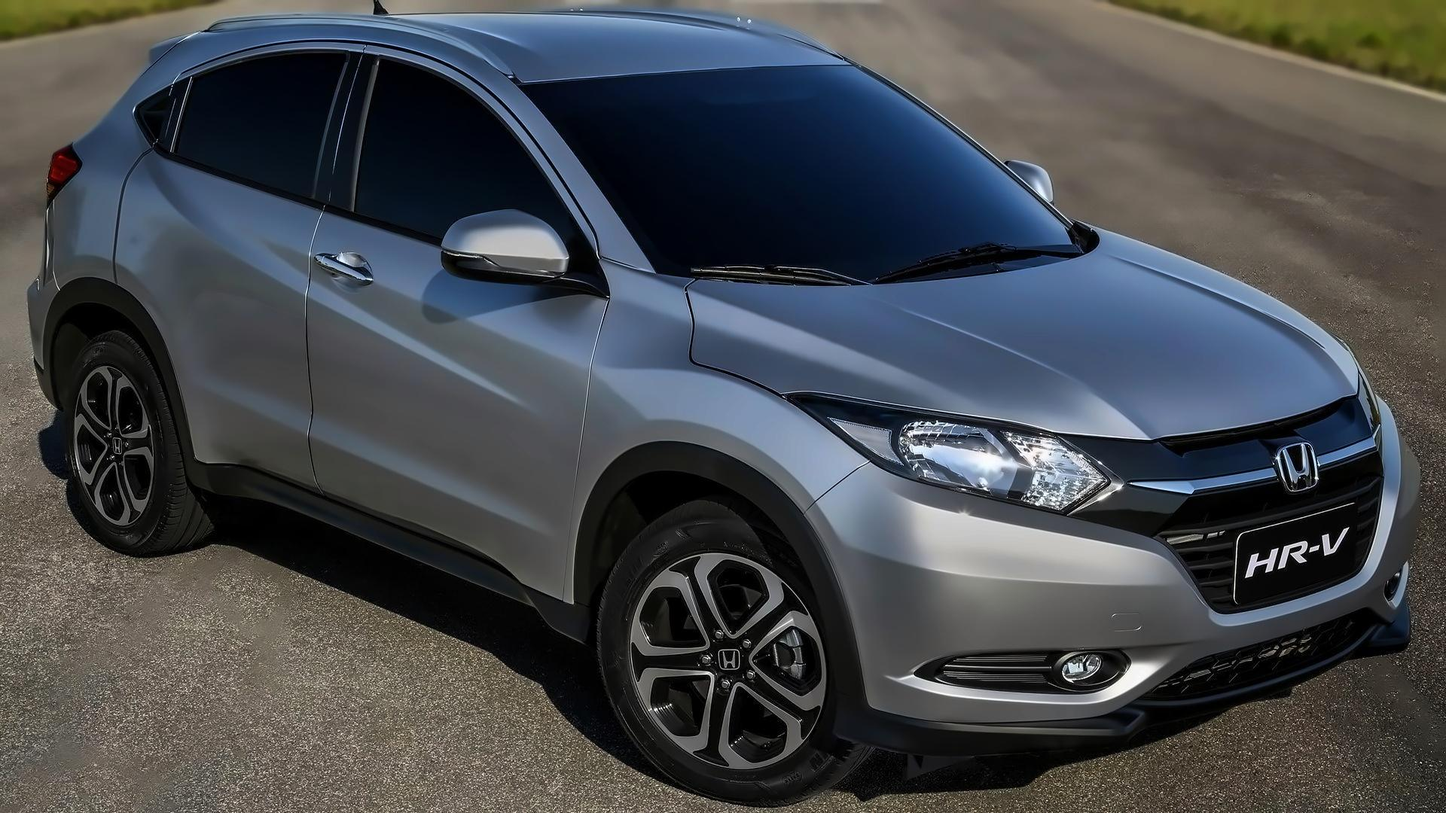Car hood: (690, 216, 1363, 437)
Driver-s door - -F-R-: (306, 33, 608, 605)
Fender - -F-R-: (573, 232, 882, 735)
Fender - -R-R-: (53, 92, 153, 350)
Front bumper: (799, 453, 1434, 763)
Headlight - -L-: (1343, 359, 1421, 460)
Headlight - -R-: (779, 368, 1137, 530)
Passenger-s door - -R-R-: (119, 10, 332, 502)
Rear bumper: (23, 243, 86, 422)
Rear light - -R-: (25, 106, 103, 216)
Side bumper - -R-: (151, 446, 608, 678)
Side mirror - -L-: (982, 136, 1117, 241)
Side mirror - -R-: (420, 188, 580, 304)
